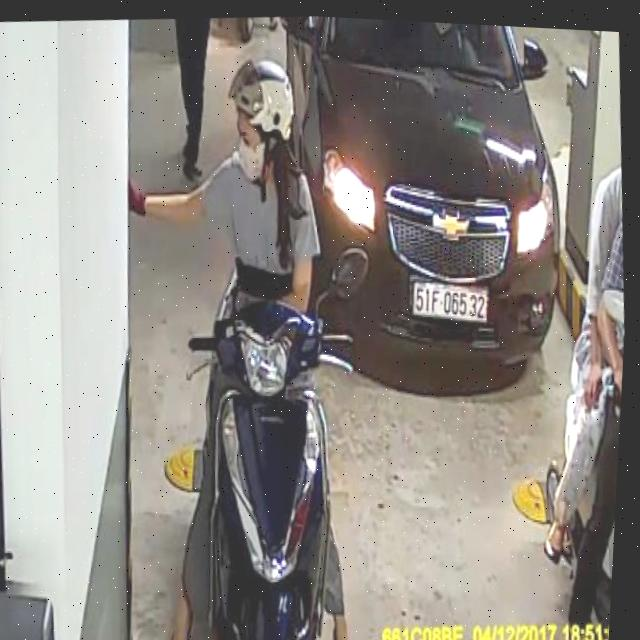car: (253, 14, 581, 402)
motorcycle: (161, 239, 374, 640)
plate: (403, 266, 493, 327)
